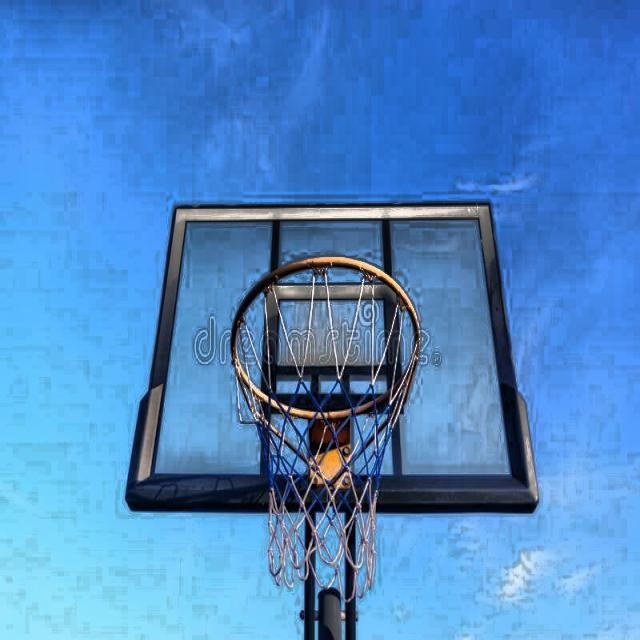rim: (230, 256, 420, 603)
